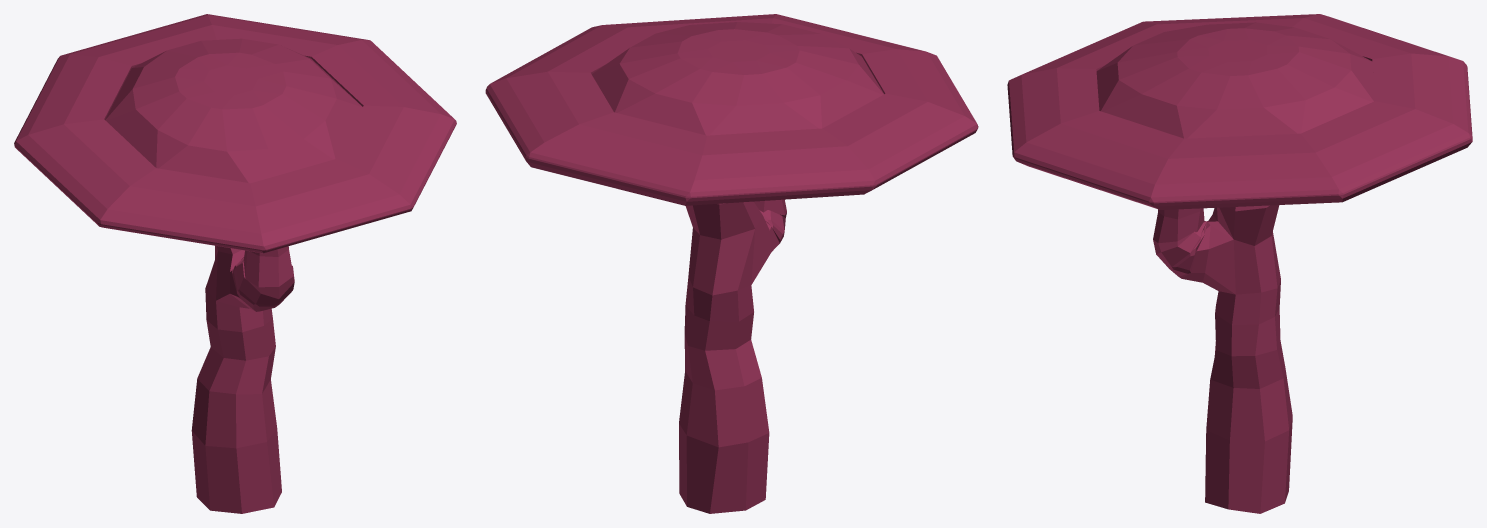
The model's file is biobloom_fauna_mushroomtreethree.fbx.
The picture shows the model from 3 angles, left to right: view 1: azimuth 30°, elevation 25°; view 2: azimuth 150°, elevation 25°; view 3: azimuth 270°, elevation 25°; orthographic projection. The views are drawn at different scales.
Visible parts, largest first — view 1: MushroomTreeThreeCombined; view 2: MushroomTreeThreeCombined; view 3: MushroomTreeThreeCombined.
Boxes of the visible parts, x1,y1,x2,y2 form: MushroomTreeThreeCombined: (14,14,456,513); MushroomTreeThreeCombined: (485,14,978,513); MushroomTreeThreeCombined: (1007,14,1472,513).
Bounding box in the file's own units: 1181 × 1298 × 1236.
